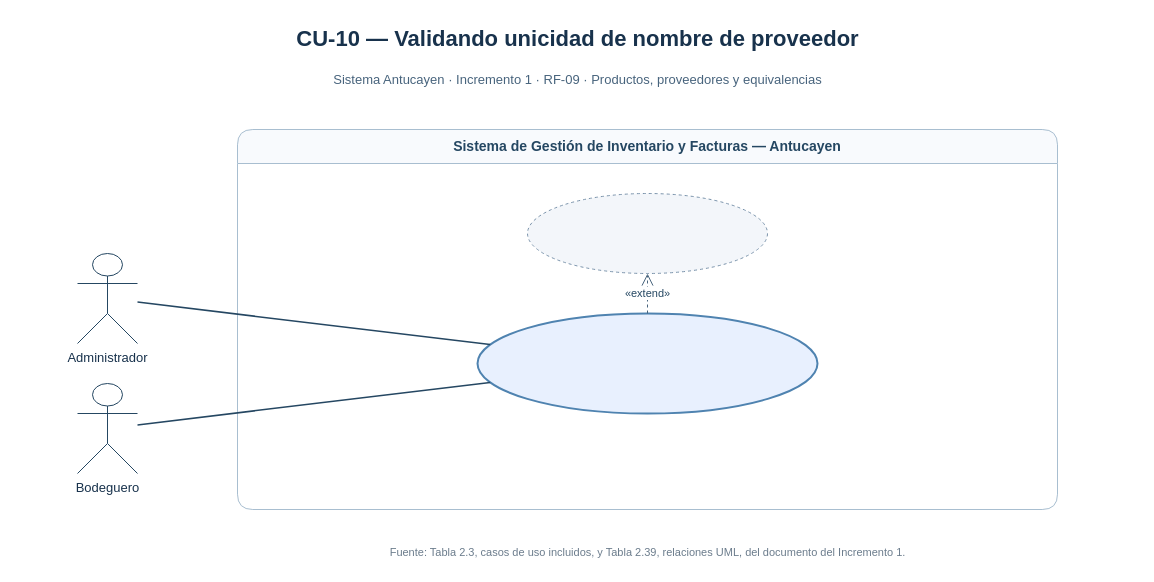
This 1154x582 diagram has some shape labels left out. The shapes that lost their labels are listed below. From the top down, each one's centre as x and y in pixels, then its label:
At (647,233): "CU-09 Registrando proveedor".
At (647,363): "CU-10 Validando unicidad de nombre de proveedor".
